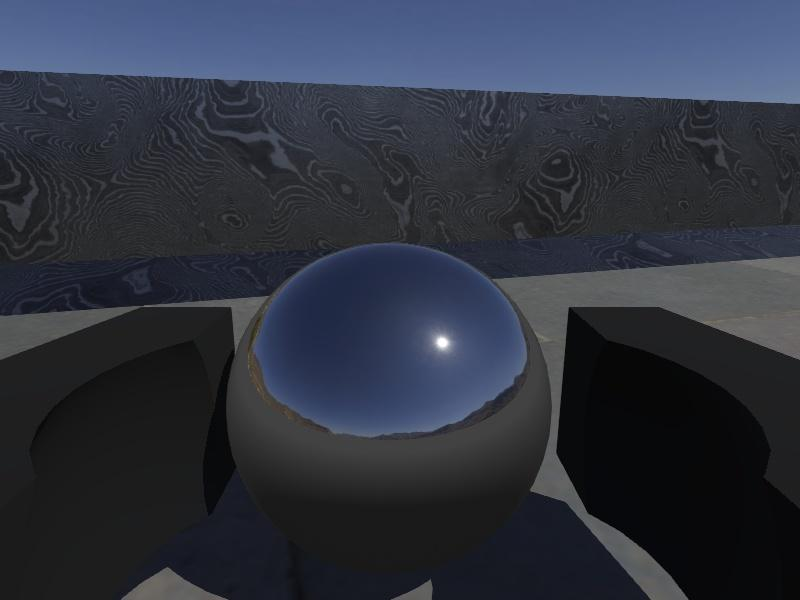steel ball: (225, 242, 553, 581)
